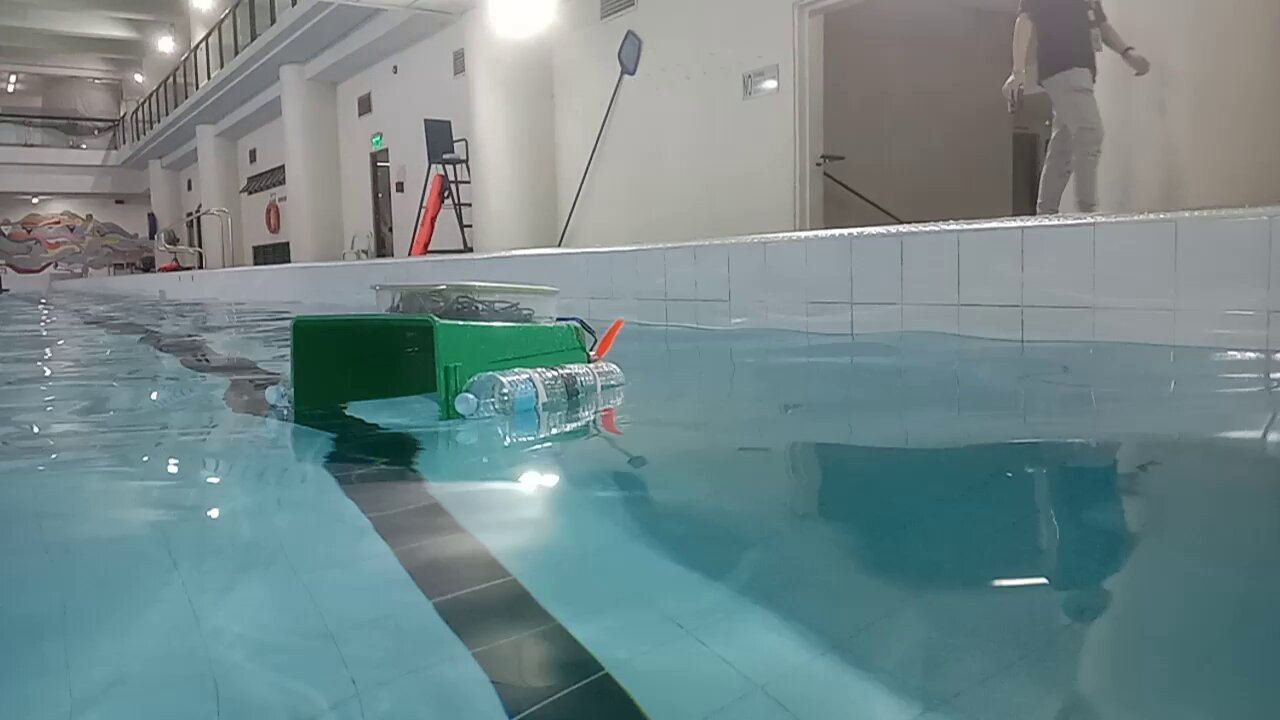drone: (264, 281, 628, 428)
